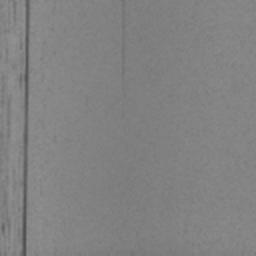Scratches: (20, 0, 29, 256), (120, 3, 125, 78)
